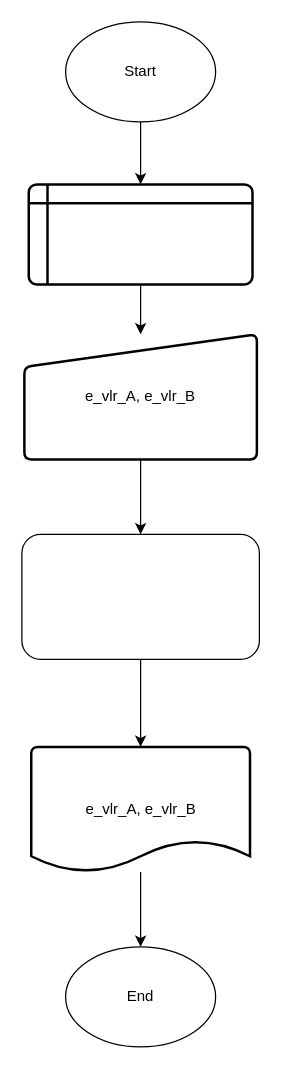
Image size: 281x1069. Some labels were removed from this diagram. The box of each missing label's shape, as (x1, y1, x2, y2) in pixels:
e_vlr_A, e_vlr_B, Trade: (27, 182, 253, 285)
trade = e_vlr_A e_vlr_A = e_vlr_B e_vlr_B = trade: (21, 533, 259, 659)
